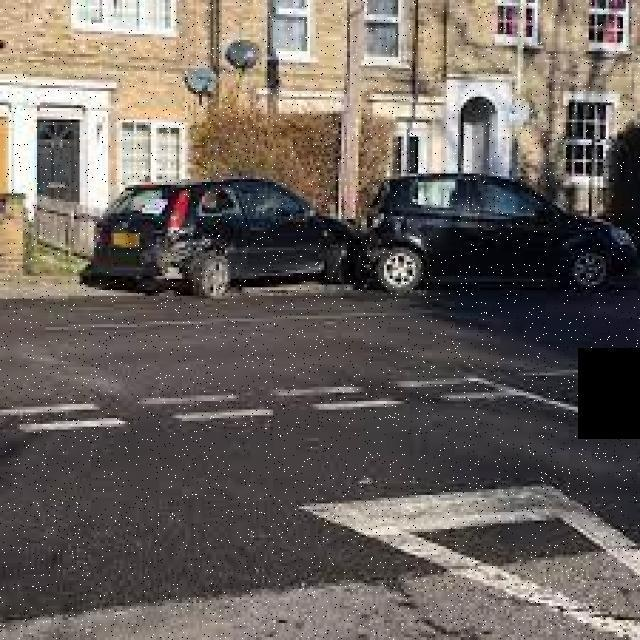multiple_accident: (75, 122, 640, 332)
